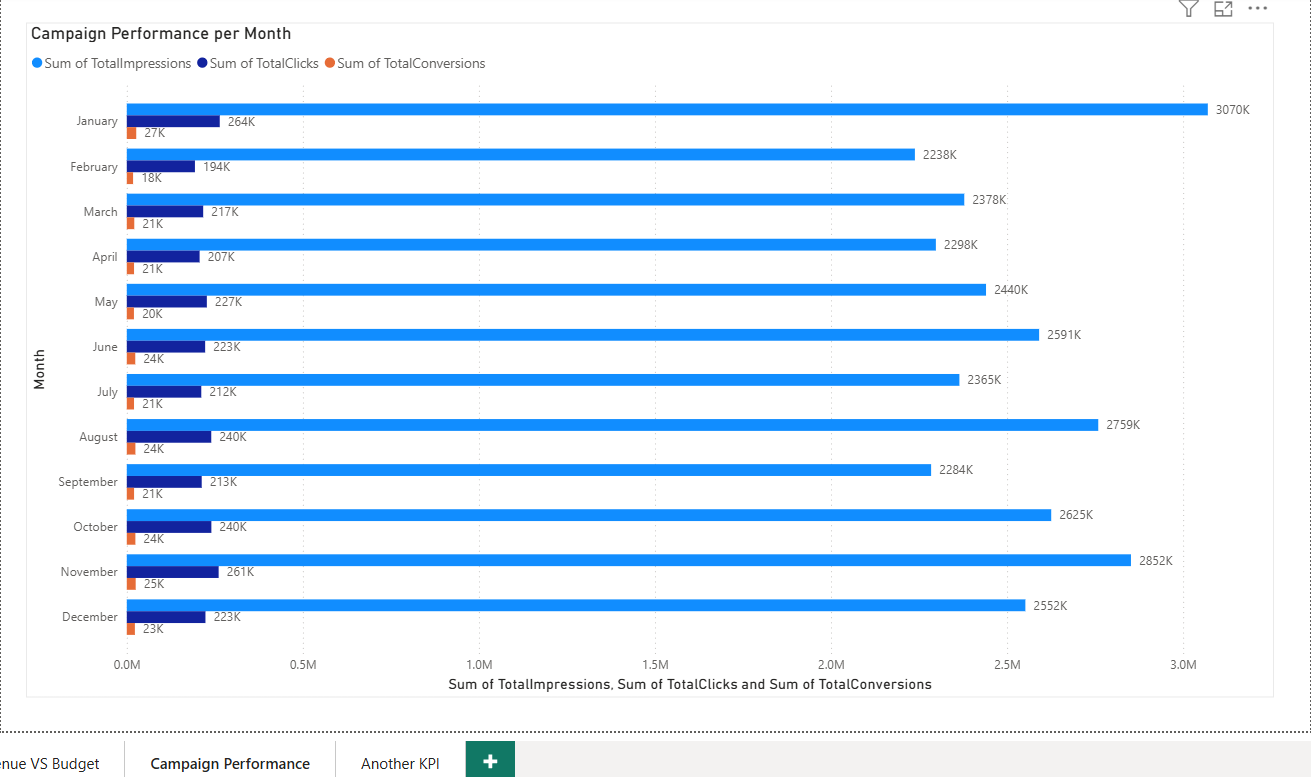

The page's visual inventory and layout, read from the dashboard file:
{"tool":"powerbi","page":{"name":"Campaign Performance","canvas":[1280,720],"ordinal":1},"visuals":[{"type":"clusteredBarChart","title":"Campaign Performance per Month","fields":{"Category":["Monthly_Trend_Permanent.Month.Variation.Date Hierarchy.Month"],"Y":["Sum(Monthly_Trend_Permanent.TotalImpressions)","Sum(Monthly_Trend_Permanent.TotalClicks)","Sum(Monthly_Trend_Permanent.TotalConversions)"]},"box":[25,27.5,1220,660],"z":0}]}

Visuals, with their boxes on the page's 1280x720 design canvas (x1, y1, x2, y2). These are canvas units, not pixel positions in the 1311x777 screenshot, which may show the page scaled, cropped or inside an application window:
"Campaign Performance per Month" clusteredBarChart: 25,28,1245,688
